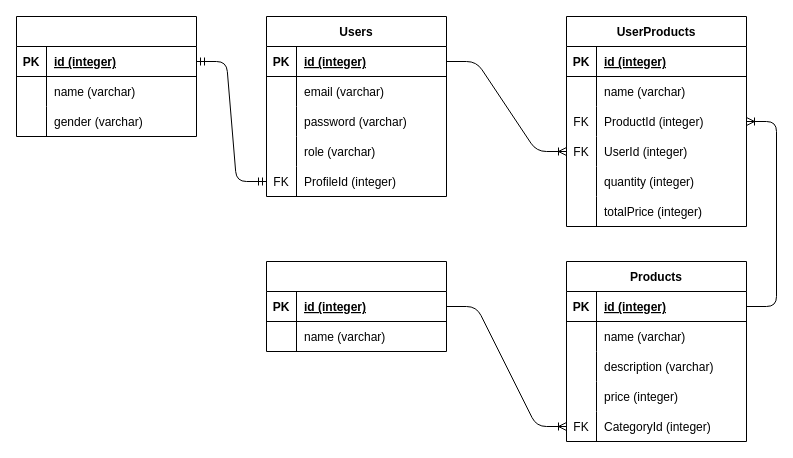
Image size: 793x458. Some labels were removed from this diagram. The shapes that lost their labels are listed below. From the top down, each one's box as (x1, y1, x2, y2) in pixels, then its label:
(16, 16, 196, 136): Profiles
(266, 260, 446, 352): Categories
